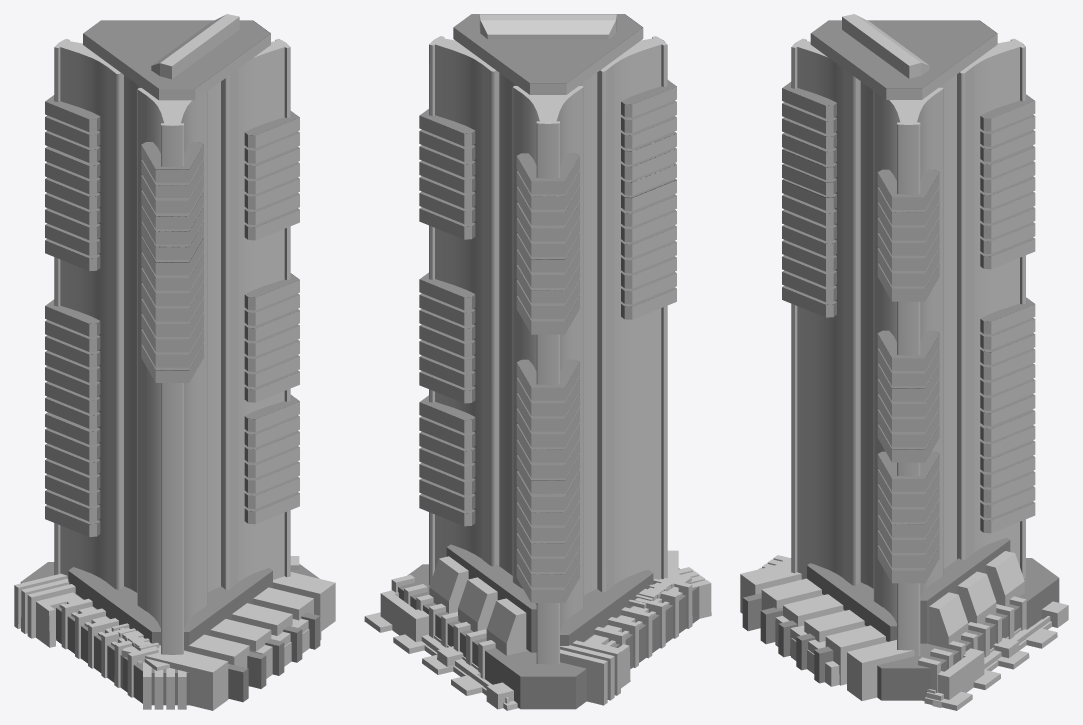
Rendered from Building_Large_01.fbx.
3 views of the same model, side by side, from view 1: azimuth 30°, elevation 25°; view 2: azimuth 150°, elevation 25°; view 3: azimuth 270°, elevation 25° (orthographic).
Visible parts, largest first — view 1: Building_Large_01, Building_Large_01_Decal_Normal, Building_Large_01_Emission; view 2: Building_Large_01, Building_Large_01_Decal_Normal, Building_Large_01_Emission; view 3: Building_Large_01, Building_Large_01_Decal_Normal, Building_Large_01_Emission.
Part boxes in pixels (bbox=[...]): Building_Large_01: bbox=[14, 14, 335, 710]; Building_Large_01_Decal_Normal: bbox=[54, 20, 290, 654]; Building_Large_01_Emission: bbox=[45, 95, 299, 536]; Building_Large_01: bbox=[364, 14, 711, 710]; Building_Large_01_Decal_Normal: bbox=[429, 14, 667, 664]; Building_Large_01_Emission: bbox=[419, 84, 676, 602]; Building_Large_01: bbox=[740, 14, 1068, 710]; Building_Large_01_Decal_Normal: bbox=[791, 20, 1025, 655]; Building_Large_01_Emission: bbox=[782, 85, 1035, 583].
Size of what is drawn, in the model's own units: 34.11 by 74.8 by 36.98.
